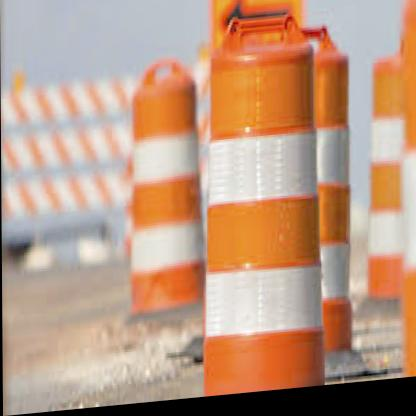obstacle: (201, 17, 328, 401)
